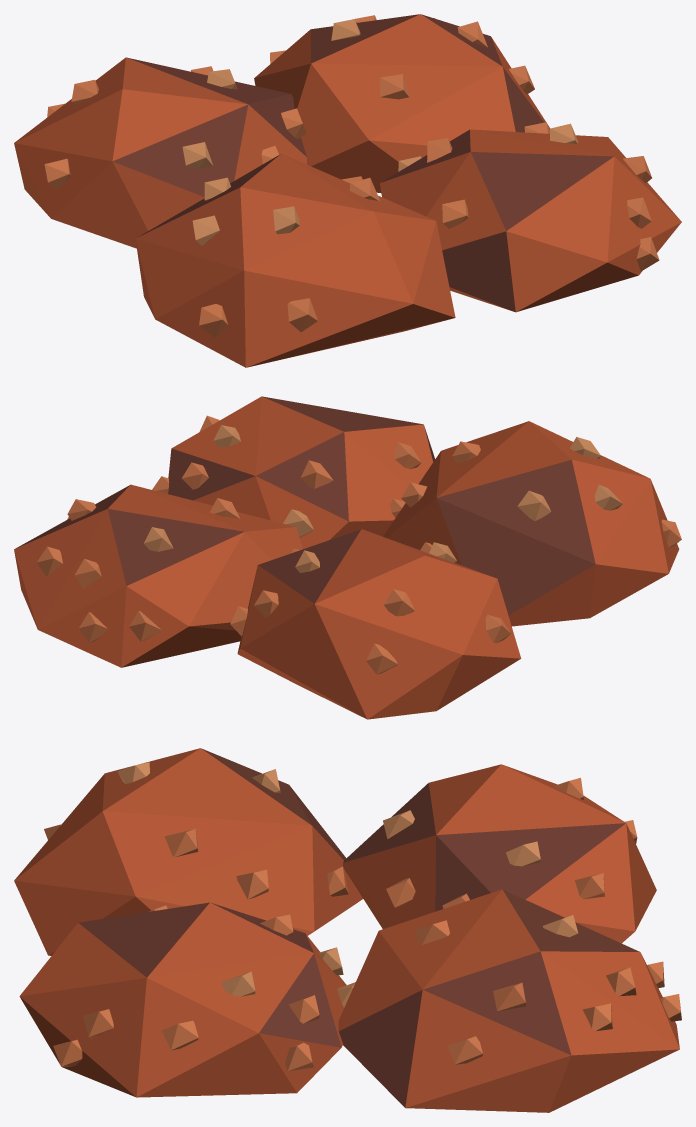
File: minerai_bauxite_1.glb
The picture shows the model from 3 angles, top to bottom: view 1: azimuth 30°, elevation 25°; view 2: azimuth 150°, elevation 25°; view 3: azimuth 270°, elevation 25°; orthographic projection. The views are drawn at different scales.
Parts seen in each view (by area): view 1: minerai_bauxite.004, minerai_brique_sombre.004, minerai_bauxite_clair.004, minerai_gres_clair.004; view 2: minerai_bauxite.004, minerai_brique_sombre.004, minerai_bauxite_clair.004, minerai_gres_clair.004; view 3: minerai_bauxite.004, minerai_brique_sombre.004, minerai_bauxite_clair.004, minerai_gres_clair.004.
Boxes of the visible parts, left/top/right/bottom form: minerai_bauxite.004: left=14, top=14, right=681, bottom=367; minerai_brique_sombre.004: left=113, top=14, right=613, bottom=312; minerai_bauxite_clair.004: left=44, top=15, right=659, bottom=337; minerai_gres_clair.004: left=182, top=19, right=578, bottom=245; minerai_bauxite.004: left=14, top=396, right=679, bottom=719; minerai_brique_sombre.004: left=16, top=396, right=595, bottom=615; minerai_bauxite_clair.004: left=36, top=415, right=681, bottom=674; minerai_gres_clair.004: left=144, top=425, right=622, bottom=572; minerai_bauxite.004: left=14, top=748, right=679, bottom=1112; minerai_brique_sombre.004: left=78, top=748, right=639, bottom=1107; minerai_bauxite_clair.004: left=44, top=777, right=681, bottom=1071; minerai_gres_clair.004: left=117, top=762, right=578, bottom=1007.
Bounding box in the file's own units: 0.5479 × 0.1264 × 0.5567.
